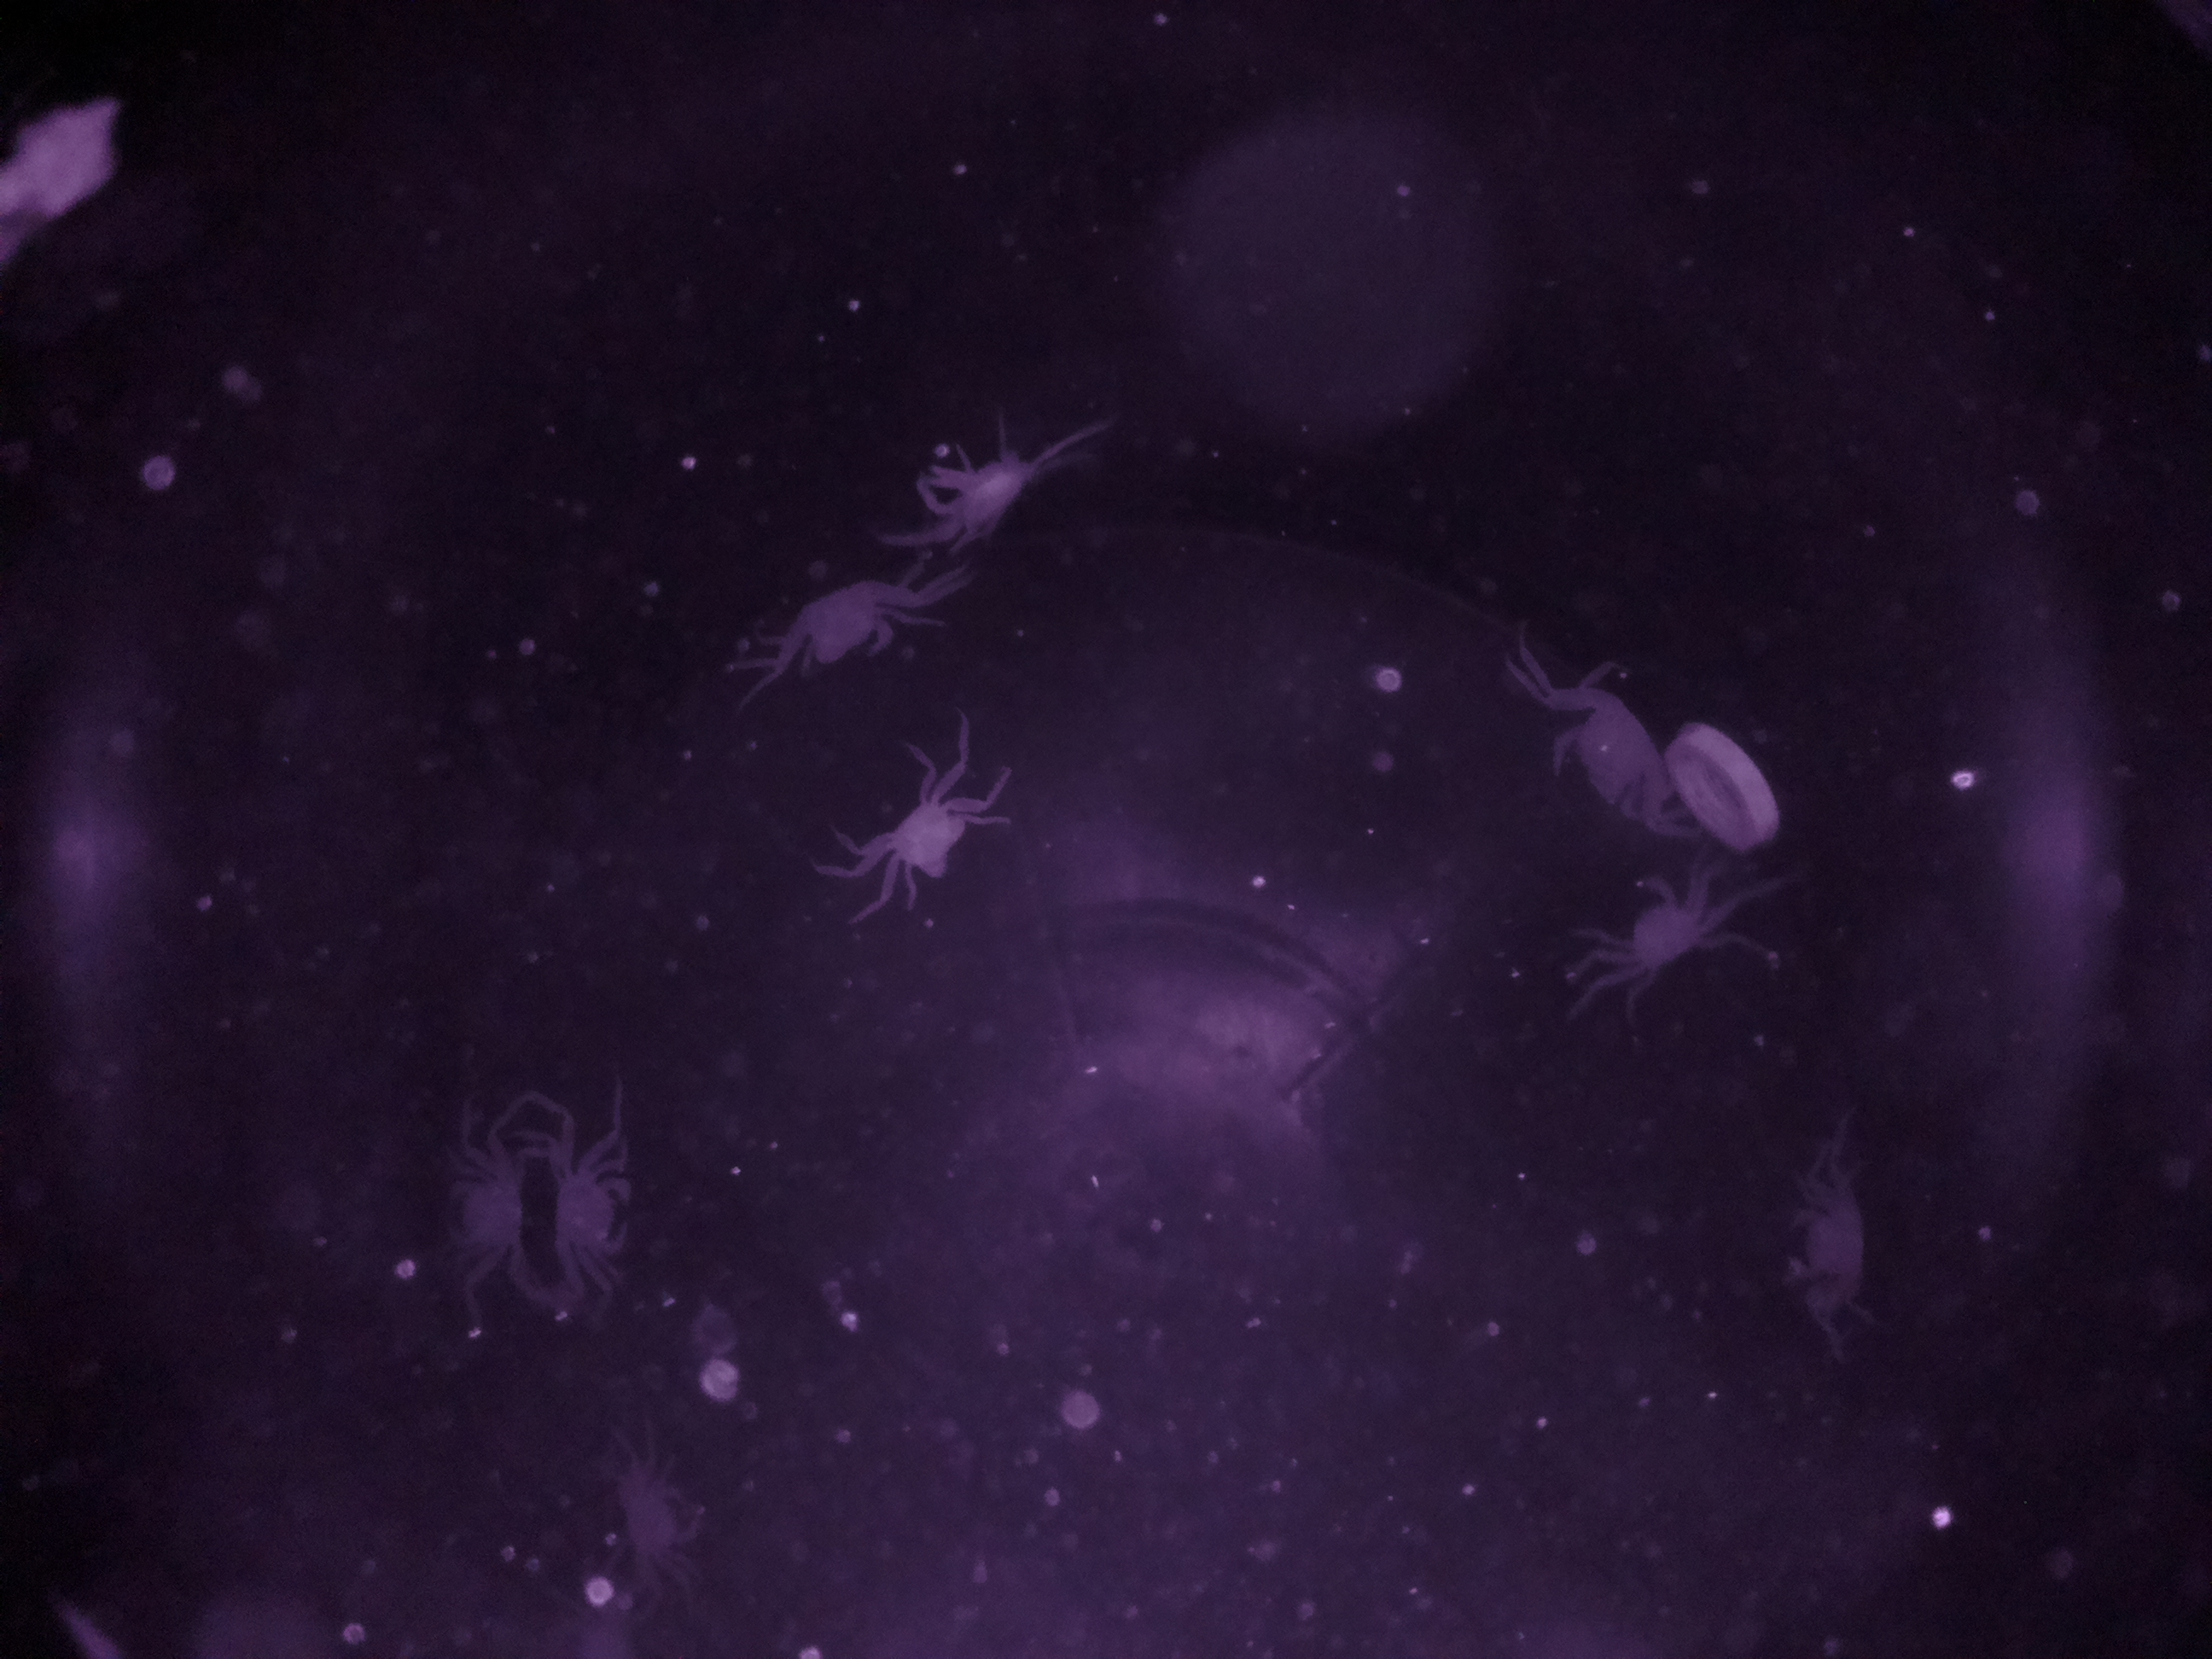Crab: (1568, 847, 1750, 1023), (533, 1119, 662, 1312), (862, 767, 998, 903)
